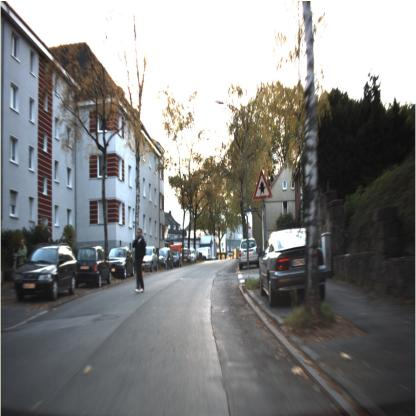priority at next intersection: (252, 168, 273, 199)
